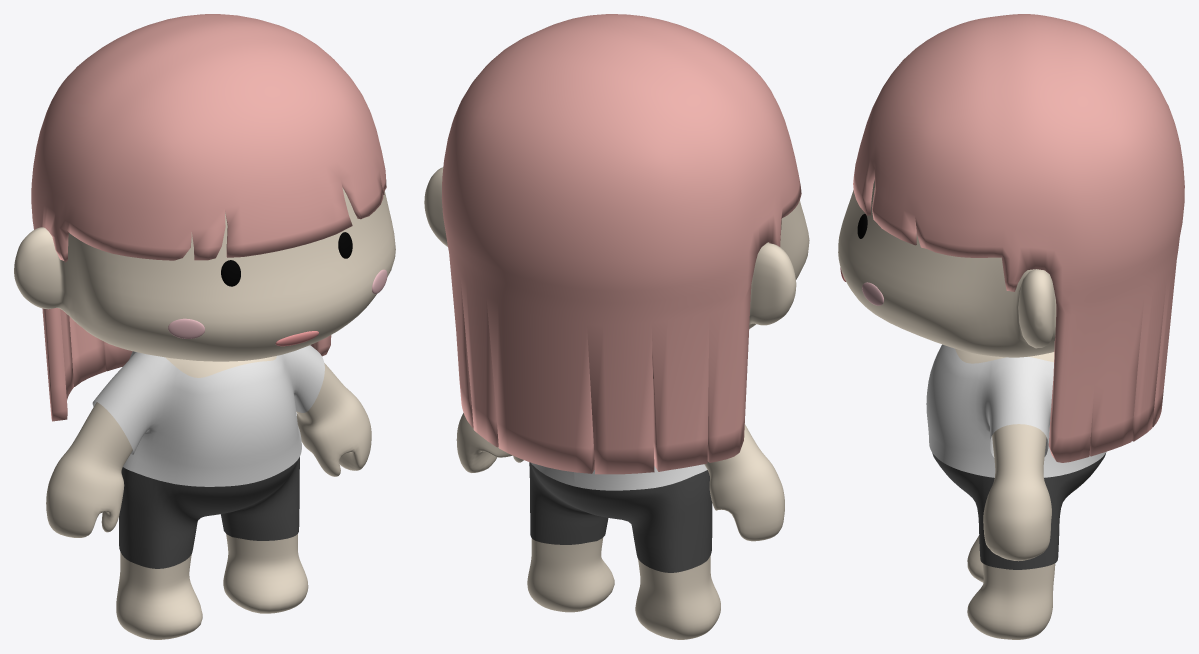
File: Girl_cloth.fbx
3 renders of one model, left to right at view 1: azimuth 30°, elevation 25°; view 2: azimuth 150°, elevation 25°; view 3: azimuth 270°, elevation 25°, orthographic. The views are drawn at different scales.
Visible parts, largest first — view 1: Cube.017, Cube.006, Cube.007, Cube.018, Cube.020, Sphere.001, Sphere; view 2: Cube.017, Cube.007, Cube.020, Cube.006, Cube.018; view 3: Cube.017, Cube.006, Cube.007, Cube.018, Cube.020.
Boxes of the visible parts, x1,y1,x2,y2 form: Cube.017: [31, 14, 386, 421]; Cube.006: [14, 187, 395, 361]; Cube.007: [46, 356, 371, 639]; Cube.018: [92, 345, 324, 486]; Cube.020: [119, 457, 299, 568]; Sphere.001: [168, 269, 387, 338]; Sphere: [221, 232, 352, 286]; Cube.017: [441, 14, 801, 474]; Cube.007: [456, 413, 784, 639]; Cube.020: [529, 462, 712, 572]; Cube.006: [424, 167, 809, 328]; Cube.018: [531, 462, 707, 490]; Cube.017: [853, 14, 1184, 462]; Cube.006: [838, 179, 1056, 357]; Cube.007: [955, 348, 1055, 639]; Cube.018: [926, 344, 1106, 477]; Cube.020: [932, 453, 1105, 569].
Size of the model in its own units: 232 by 352 by 194.
